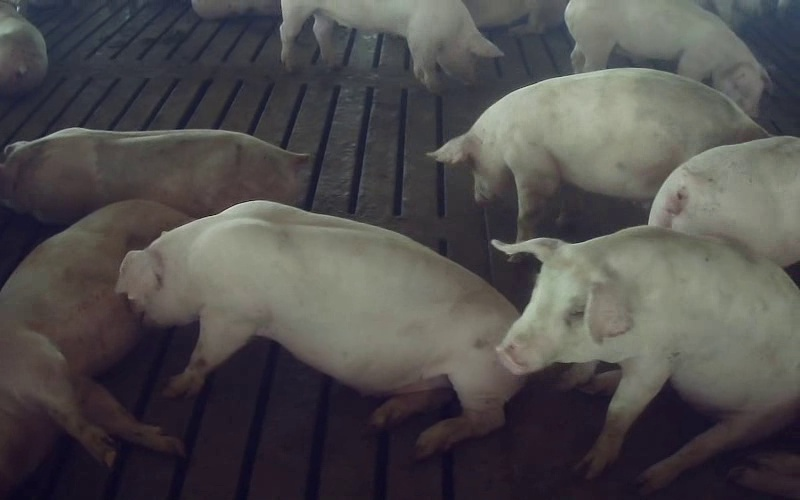pig: (494, 226, 799, 492), (0, 200, 186, 495), (565, 0, 769, 114), (281, 0, 502, 92), (649, 136, 799, 266)
